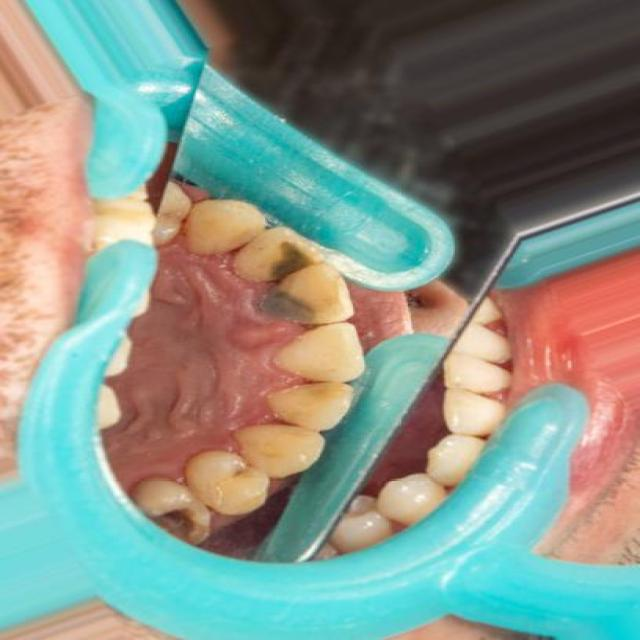caries: (253, 284, 322, 329), (252, 238, 318, 282), (398, 277, 462, 321), (147, 501, 202, 543)
